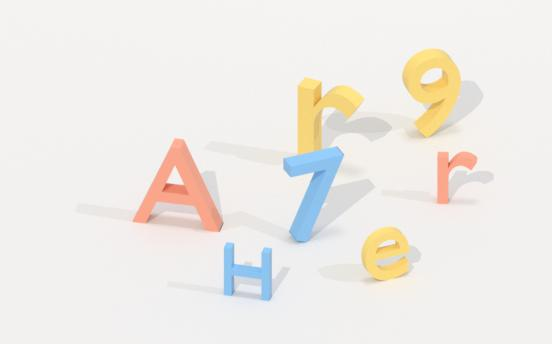7: (279, 146, 346, 247)
9: (402, 47, 463, 143)
A-hoa: (127, 133, 228, 235)
H-hoa: (217, 238, 278, 303)
R: (293, 77, 366, 158), (436, 148, 480, 208)
e: (359, 225, 412, 282)
